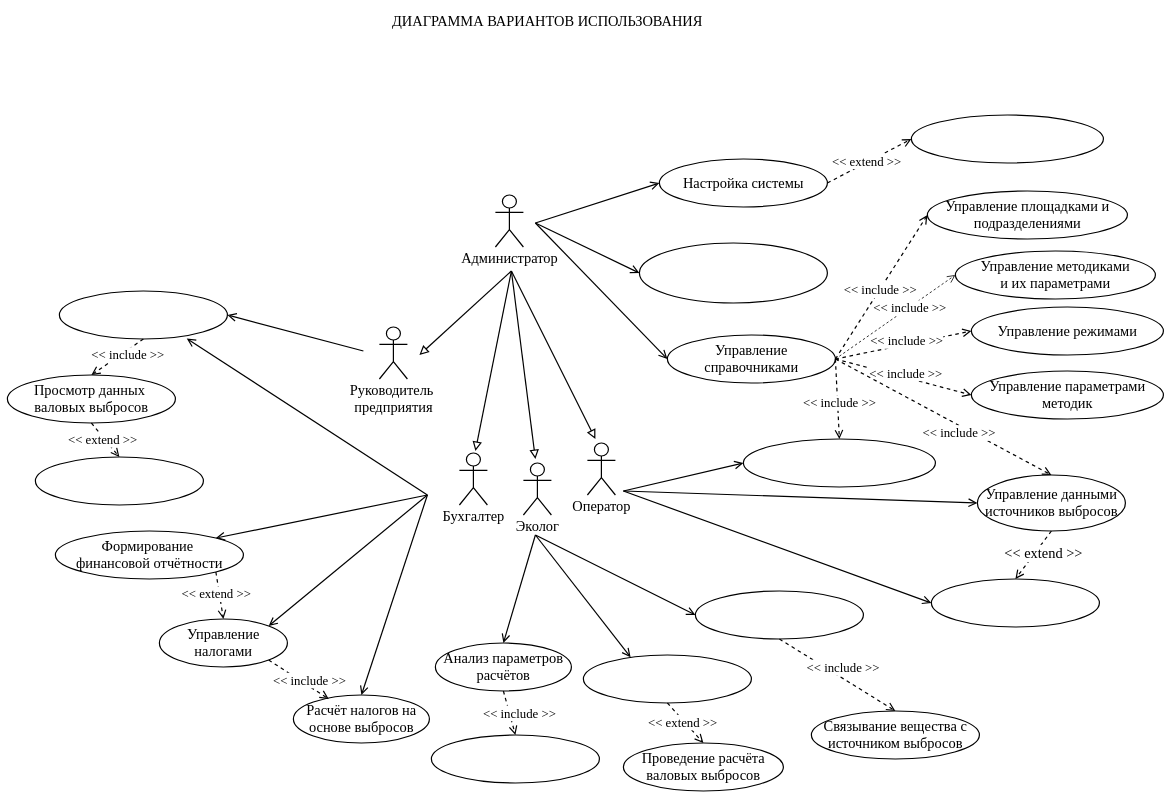
The diagram is 1171 pixels wide and 798 high, and some of its shapes have lost their labels. Here are the shapes that lost their labels. From the top down, the centre of each, then its label:
(x=1007, y=138): Обеспечение работоспособности приложения
(x=733, y=272): Регистрация пользователей и управление их ролями
(x=143, y=314): Просмотр статистики
(x=119, y=480): Анализ отчётов
(x=839, y=462): Управление перечнем загрязняющих веществ
(x=779, y=614): Учёт выбросов загрязняющих веществ
(x=1015, y=602): Ведение времени работы источников
(x=667, y=678): Формирование экологических отчётов
(x=515, y=758): Управление удельными показателями
